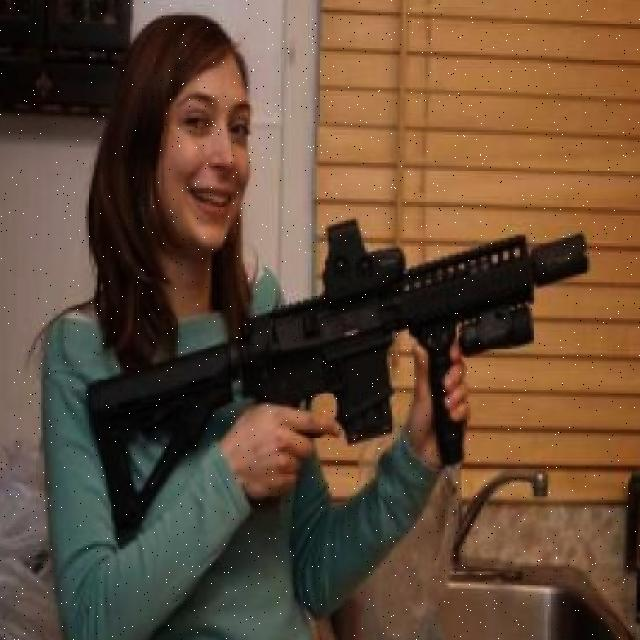Rifle: (94, 216, 589, 543)
